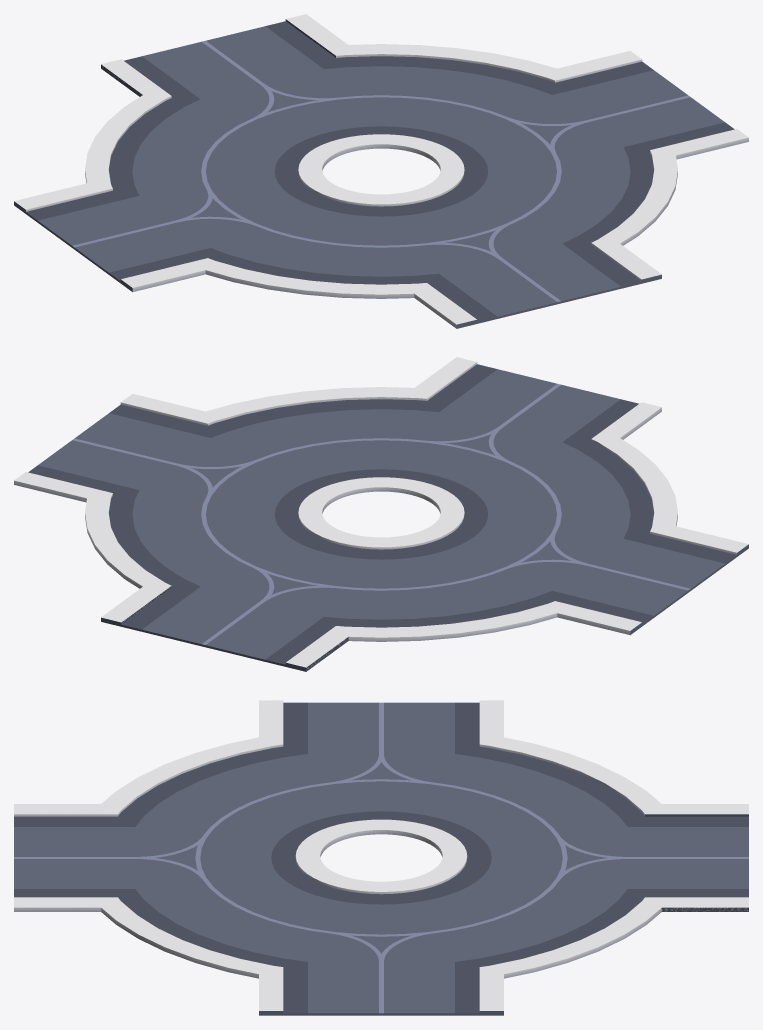
File: road-roundabout.glb
The picture shows the model from 3 angles, top to bottom: view 1: azimuth 30°, elevation 25°; view 2: azimuth 150°, elevation 25°; view 3: azimuth 270°, elevation 25°; orthographic projection. The views are drawn at different scales.
Parts seen in each view (by area): view 1: road-roundabout; view 2: road-roundabout; view 3: road-roundabout.
Part boxes in pixels (box(x1,y1,x2,y2)): road-roundabout: box(14, 14, 748, 328); road-roundabout: box(14, 357, 748, 671); road-roundabout: box(14, 700, 748, 1015).
Size of the model in its own units: 3 by 0.02 by 3.
1 material, 1 textured.
